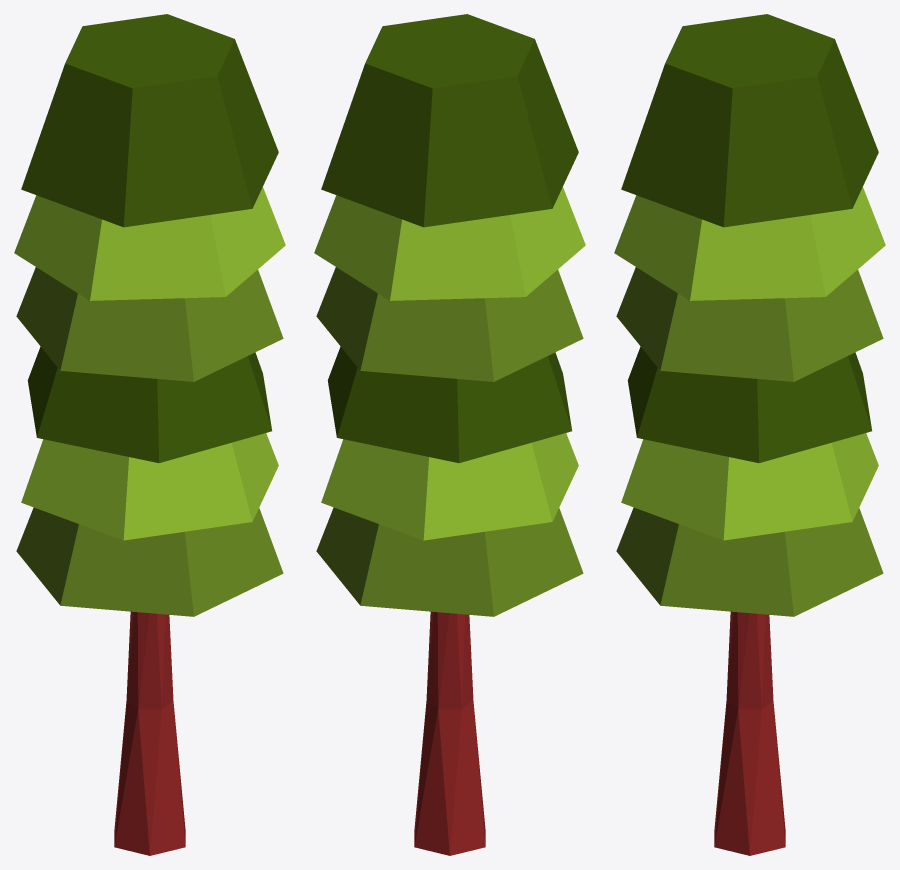
The model's file is kebab_tree_medium.fbx.
3 renders of one model, left to right at view 1: azimuth 30°, elevation 25°; view 2: azimuth 150°, elevation 25°; view 3: azimuth 270°, elevation 25°, orthographic.
Parts seen in each view (by area): view 1: G-Object.003, G-Object.001, G-Object.007, G-Object.005, G-Object.002, G-Object.006, G-Object.004; view 2: G-Object.003, G-Object.001, G-Object.007, G-Object.005, G-Object.002, G-Object.006, G-Object.004; view 3: G-Object.003, G-Object.001, G-Object.007, G-Object.005, G-Object.002, G-Object.006, G-Object.004.
Part boxes in pixels (x1,y1,x2,y2): G-Object.003: (21,14,278,227); G-Object.001: (14,187,285,300); G-Object.007: (16,267,283,381); G-Object.005: (16,507,283,616); G-Object.002: (21,433,278,540); G-Object.006: (27,346,271,462); G-Object.004: (114,611,185,855); G-Object.003: (321,14,578,227); G-Object.001: (314,187,585,300); G-Object.007: (316,267,583,381); G-Object.005: (316,507,583,616); G-Object.002: (321,433,578,540); G-Object.006: (327,346,571,462); G-Object.004: (414,611,485,855); G-Object.003: (621,14,878,227); G-Object.001: (614,187,885,300); G-Object.007: (616,267,883,381); G-Object.005: (616,507,883,616); G-Object.002: (621,433,878,540); G-Object.006: (627,346,871,462); G-Object.004: (714,611,785,855).
Bounding box in the file's own units: 267 × 855 × 267.
